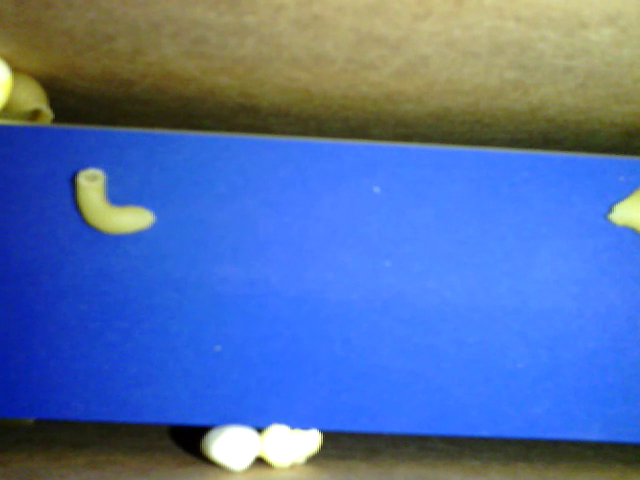elbow: (74, 163, 159, 233)
shell: (3, 68, 55, 132)
